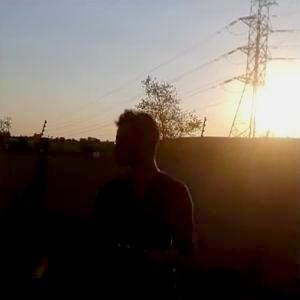follow: (77, 101, 194, 298)
